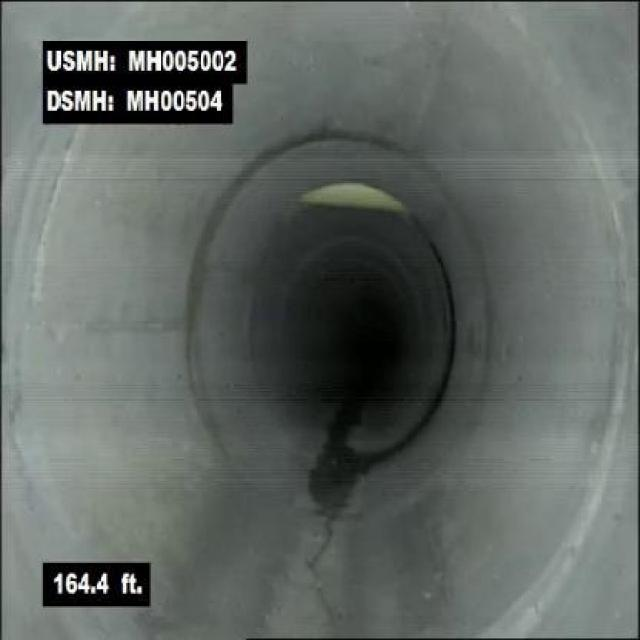Crack: (298, 520, 348, 638)
Utility intrusion: (294, 174, 415, 217)
